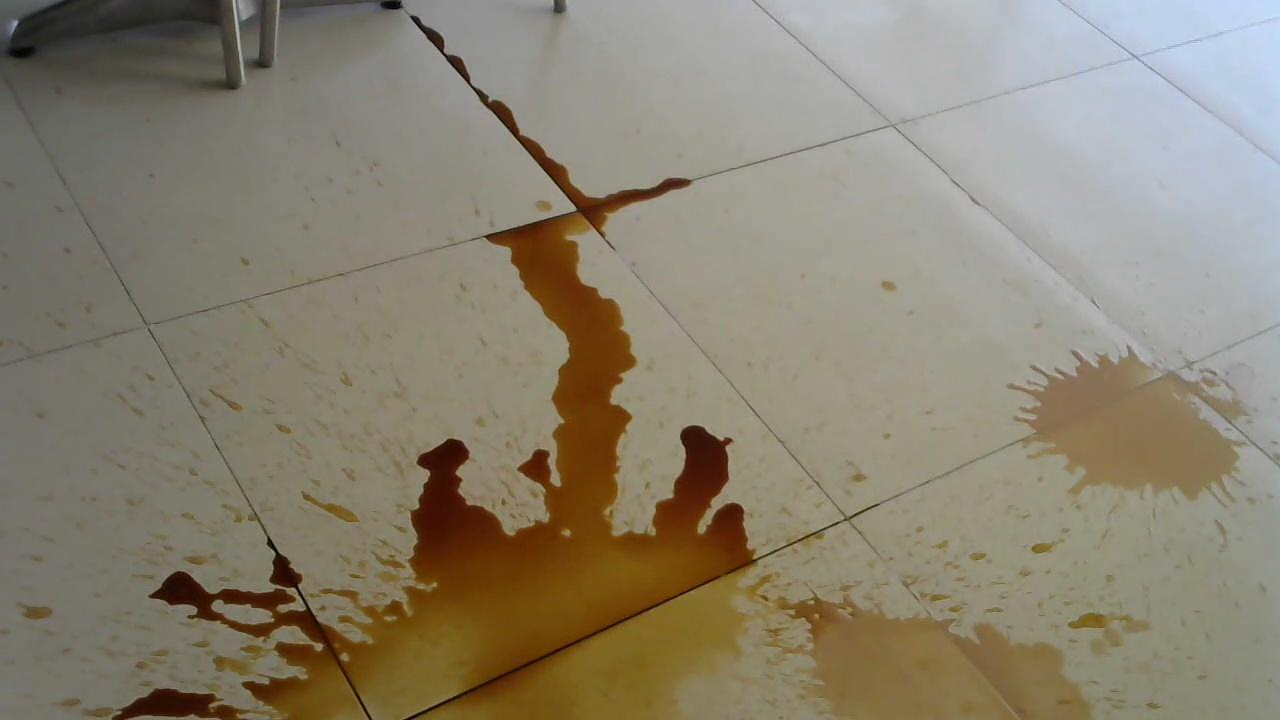dirty_floor: (22, 160, 1280, 720)
